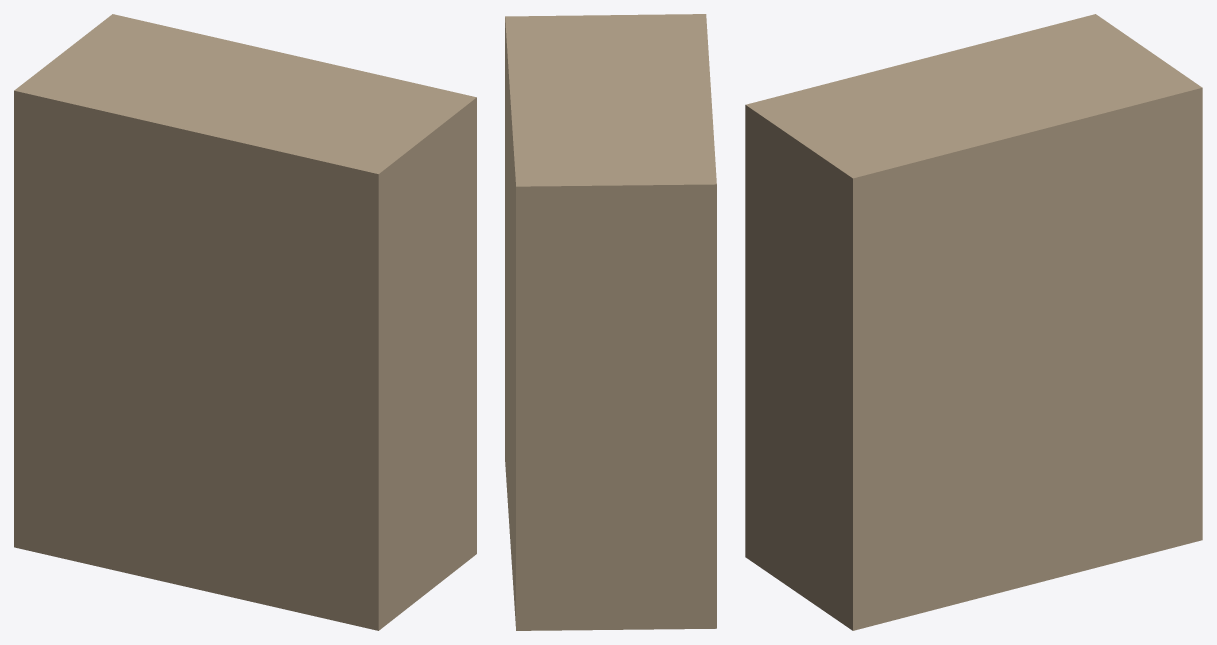
Rendered from bld_99623149.dae.
The picture shows the model from 3 angles, left to right: view 1: azimuth 30°, elevation 25°; view 2: azimuth 150°, elevation 25°; view 3: azimuth 270°, elevation 25°; orthographic projection. The views are drawn at different scales.
Visible parts, largest first — view 1: bld_99623149; view 2: bld_99623149; view 3: bld_99623149.
Part boxes in pixels (x1,y1,x2,y2): bld_99623149: (14, 14, 476, 630); bld_99623149: (505, 14, 716, 630); bld_99623149: (745, 14, 1202, 630).
Bounding box in the file's own units: 6.24 × 7.32 × 8.
